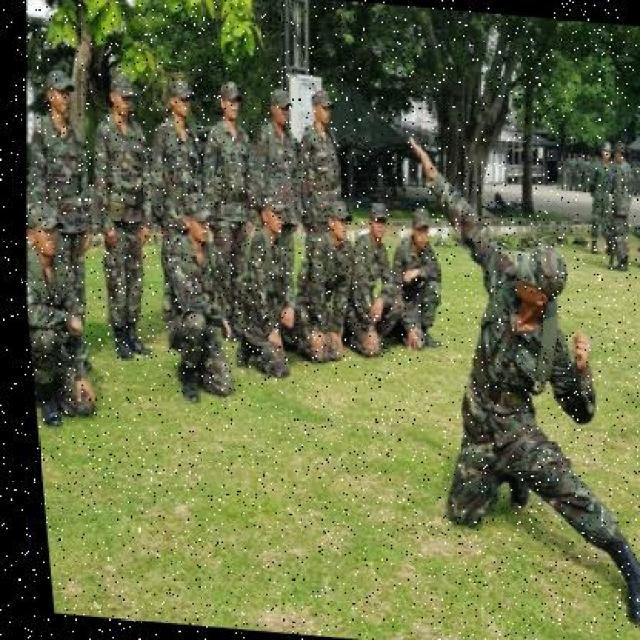MIL_Pax: (354, 126, 640, 640), (72, 75, 171, 362), (148, 190, 240, 399), (14, 195, 95, 420), (22, 55, 100, 230), (334, 190, 401, 382), (230, 211, 304, 383), (380, 201, 452, 356), (296, 202, 361, 367), (139, 61, 207, 210), (185, 78, 258, 213), (286, 80, 354, 223), (241, 79, 307, 216), (597, 149, 640, 274), (572, 146, 620, 240), (546, 147, 589, 190), (627, 146, 640, 260)
